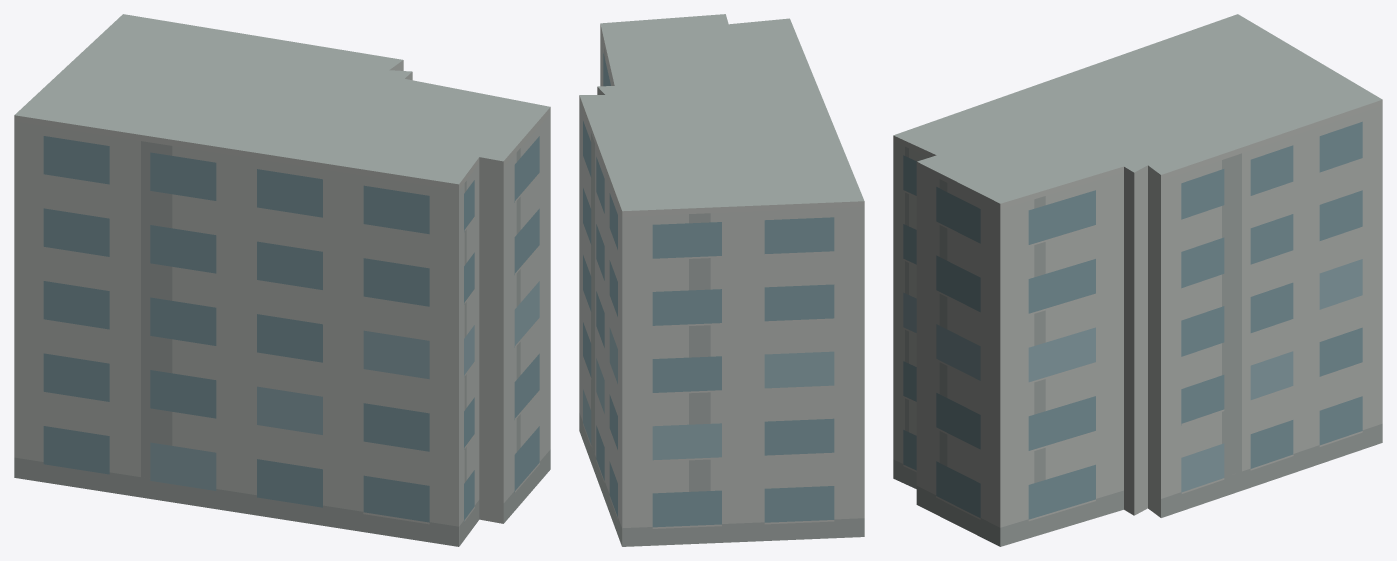
Rendered from survey-upis-32885678.glb.
The picture shows the model from 3 angles, left to right: view 1: azimuth 30°, elevation 25°; view 2: azimuth 150°, elevation 25°; view 3: azimuth 270°, elevation 25°; orthographic projection. The views are drawn at different scales.
Parts seen in each view (by area): view 1: survey-upis-32885678.tmp; view 2: survey-upis-32885678.tmp; view 3: survey-upis-32885678.tmp.
Part boxes in pixels (x1=…): survey-upis-32885678.tmp: x1=14, y1=14, x2=550, y2=546; survey-upis-32885678.tmp: x1=579, y1=14, x2=864, y2=546; survey-upis-32885678.tmp: x1=893, y1=14, x2=1382, y2=546.
Bounding box in the file's own units: 17.09 × 14.4 × 18.62.
